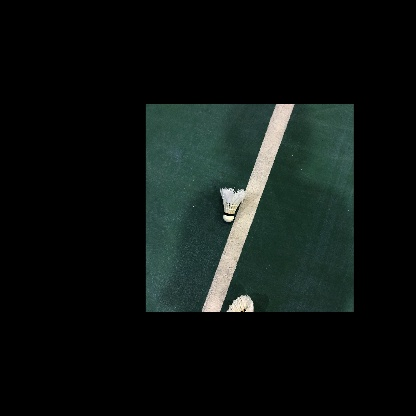ball_single: (220, 188, 245, 222), (226, 295, 254, 312)
